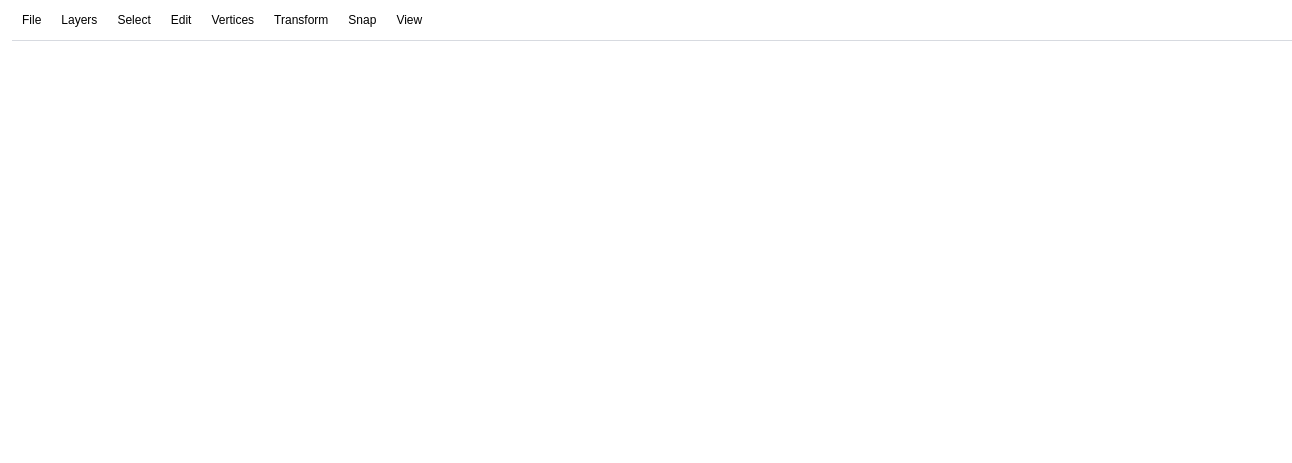
Test: the menu bar › keeps a disabled command visible with its shortcut
Click the menu item "Edit". click: (181, 20)
box: [161,13,201,27]
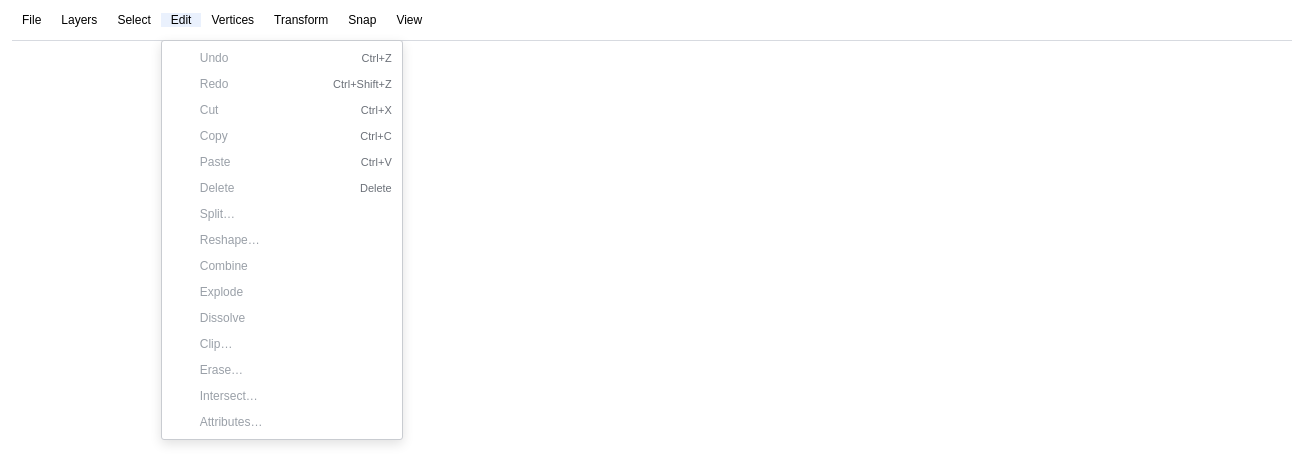
expect the menu item "Undo Ctrl+Z" is disabled: met, box [162,45,402,71]
expect the menu item "Undo Ctrl+Z" is shown: met, box [162,45,402,71]
